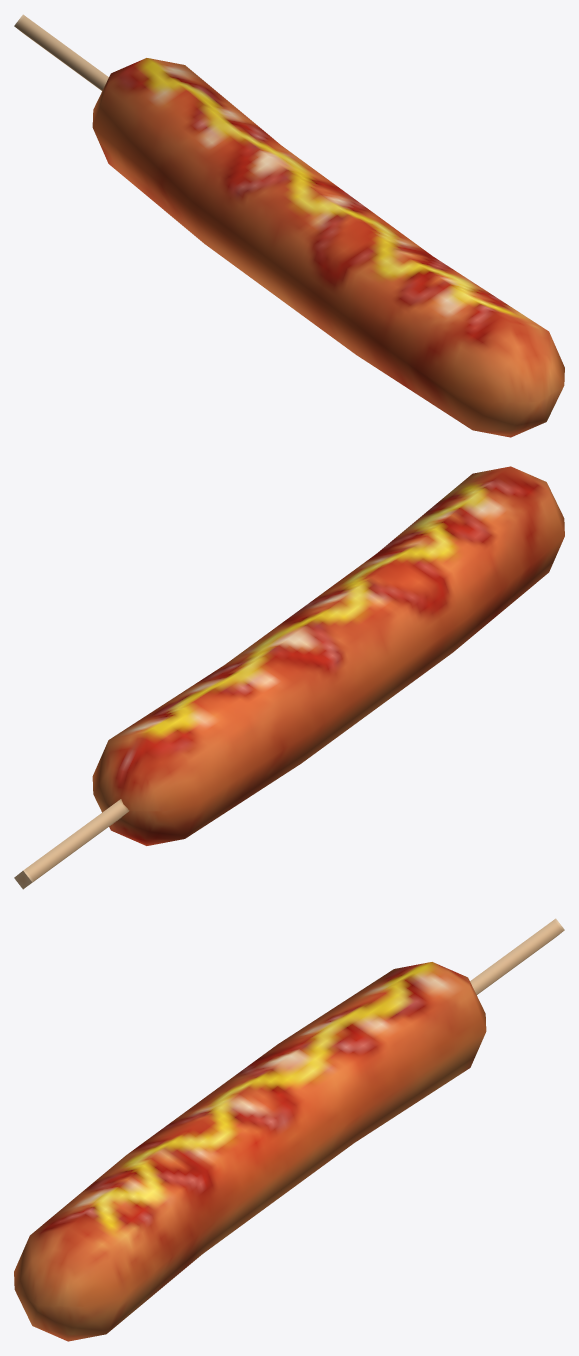
The model's file is jsf_Frankfurt_b03.fbx.
3 renders of one model, top to bottom at view 1: azimuth 30°, elevation 25°; view 2: azimuth 150°, elevation 25°; view 3: azimuth 330°, elevation 25°, orthographic.
Visible parts, largest first — view 1: jsf_Frankfurt_b03; view 2: jsf_Frankfurt_b03; view 3: jsf_Frankfurt_b03.
Part boxes in pixels (box(x1,y1,x2,y2)): jsf_Frankfurt_b03: box(14, 14, 564, 437); jsf_Frankfurt_b03: box(14, 466, 564, 889); jsf_Frankfurt_b03: box(14, 918, 564, 1341).
Bounding box in the file's own units: 3.73 × 3.42 × 28.25.
